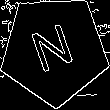N_S: (28, 19, 81, 81)
